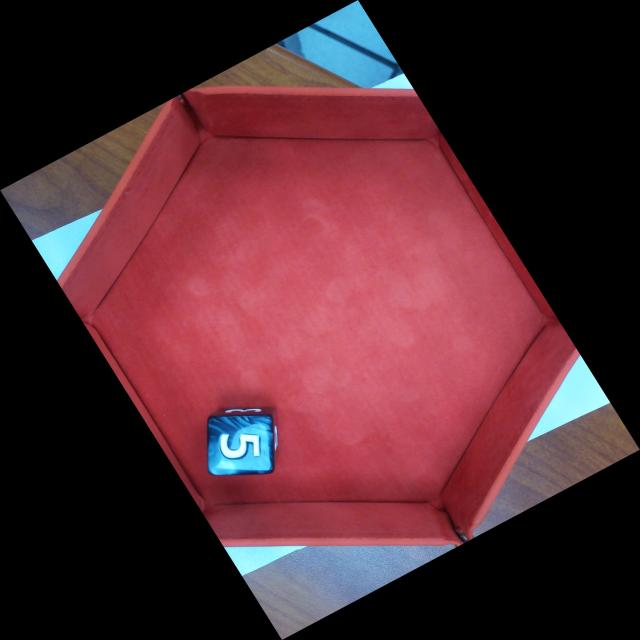dice: (205, 412, 276, 476)
